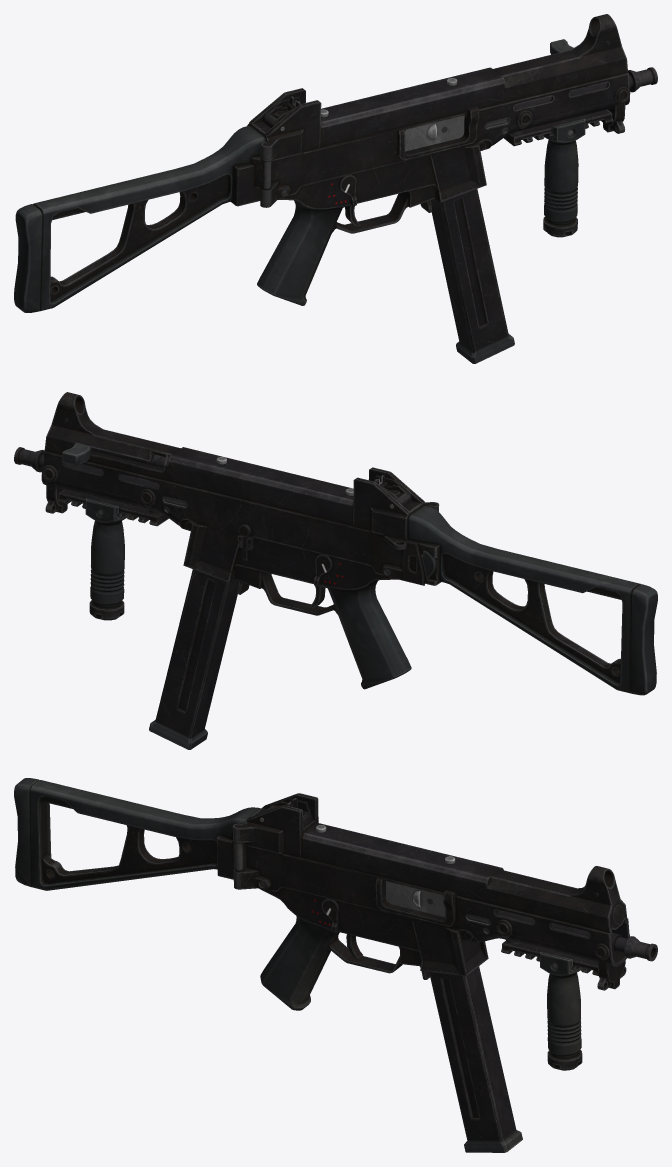
The model's file is smg45.glb.
3 views of the same model, one above another, from view 1: azimuth 30°, elevation 25°; view 2: azimuth 150°, elevation 25°; view 3: azimuth 330°, elevation 25° (orthographic).
Visible parts, largest first — view 1: Body, Magazine, ChargingHandle; view 2: Body, Magazine, Bolt; view 3: Body, Magazine, ChargingHandle.
Part boxes in pixels (box(x1,y1,x2,y2)): Body: box(14, 14, 657, 312); Magazine: box(431, 189, 514, 363); ChargingHandle: box(405, 115, 464, 151); Body: box(14, 392, 657, 695); Magazine: box(149, 569, 239, 749); Bolt: box(62, 443, 166, 468); Body: box(14, 778, 657, 1070); Magazine: box(429, 966, 522, 1152); ChargingHandle: box(386, 881, 445, 917).
Size of the model in its own units: 0.9 by 0.4261 by 0.0979.
1 material, 1 textured.
